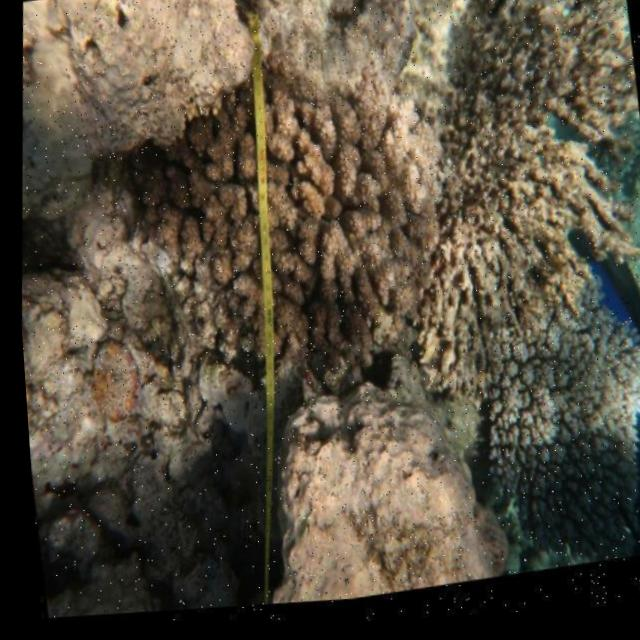Healthy Coral: (116, 44, 477, 426)
